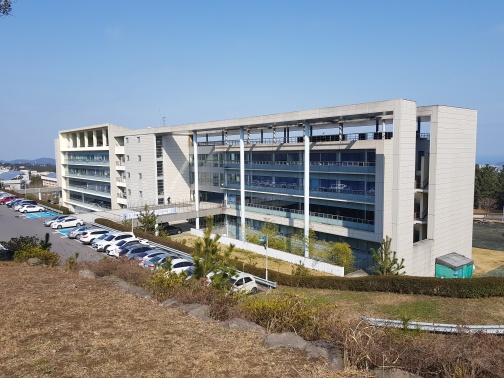Engineering College Building 4: (56, 121, 478, 217), (194, 114, 418, 259), (390, 103, 478, 283), (61, 132, 183, 209)
